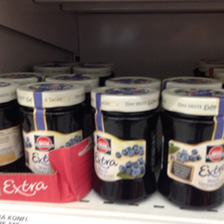jam: (91, 86, 161, 205), (160, 86, 224, 209), (17, 82, 85, 174)
